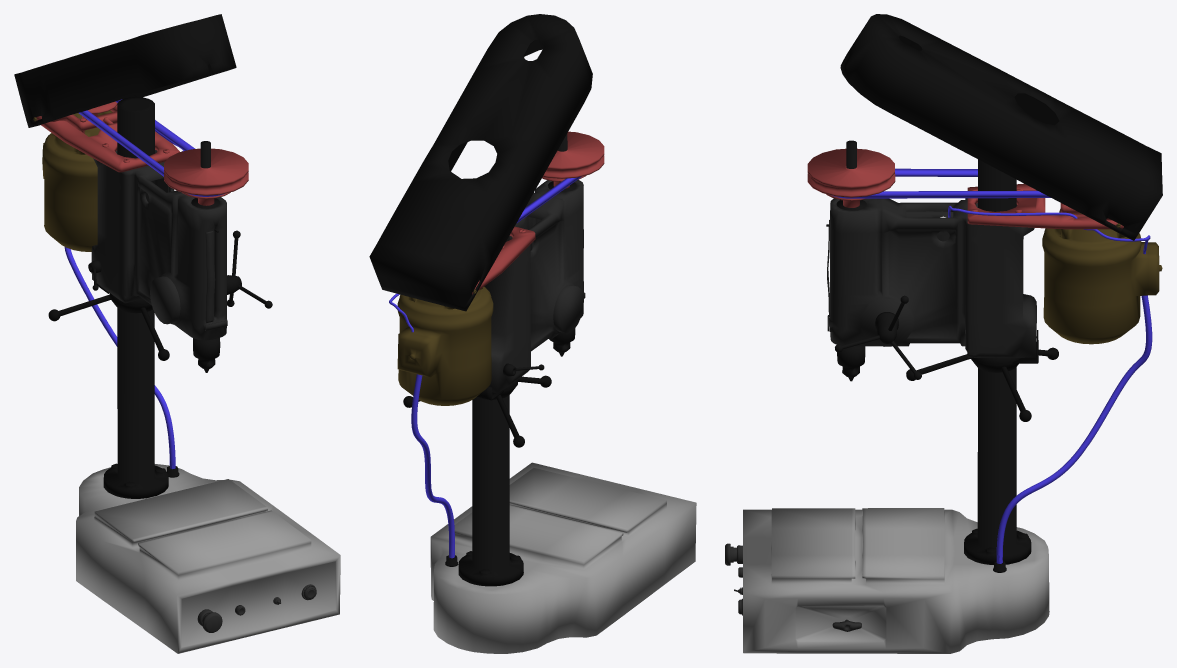
3 views of the same model, side by side, from view 1: azimuth 30°, elevation 25°; view 2: azimuth 150°, elevation 25°; view 3: azimuth 270°, elevation 25° (orthographic). The views are drawn at different scales.
Visible parts, largest first — view 1: stanina_low, korpus_low, kozhuh_low, val_low, motor_low, pulley_2_low, top_low, strap_low, CABLE2_low, Body57_low, ruler's_scale_low, patron_low (+2 smaller); view 2: stanina_low, kozhuh_low, korpus_low, motor_low, val_low, pulley_2_low, CABLE2_low, Body57_low, top_low, strap_low; view 3: stanina_low, kozhuh_low, korpus_low, motor_low, val_low, pulley_2_low, top_low, CABLE2_low, strap_low, CABLE_low, patron_low.
Part boxes in pixels (x1,y1,x2,y2): stanina_low: [76, 464, 340, 653]; korpus_low: [91, 150, 227, 340]; kozhuh_low: [14, 14, 236, 127]; val_low: [103, 97, 168, 498]; motor_low: [42, 110, 112, 251]; pulley_2_low: [164, 148, 248, 205]; top_low: [36, 116, 179, 172]; strap_low: [79, 99, 224, 196]; CABLE2_low: [64, 247, 175, 469]; Body57_low: [150, 276, 180, 324]; ruler's_scale_low: [205, 231, 215, 322]; patron_low: [193, 338, 220, 372]; stanina_low: [430, 462, 696, 653]; kozhuh_low: [369, 14, 592, 311]; korpus_low: [484, 179, 583, 393]; motor_low: [397, 286, 493, 405]; val_low: [458, 235, 523, 586]; pulley_2_low: [542, 131, 604, 188]; CABLE2_low: [411, 374, 454, 558]; Body57_low: [553, 285, 583, 332]; top_low: [472, 226, 535, 294]; strap_low: [516, 176, 581, 223]; stanina_low: [743, 508, 1049, 653]; kozhuh_low: [840, 14, 1162, 240]; korpus_low: [829, 198, 1036, 357]; motor_low: [1042, 209, 1162, 344]; val_low: [964, 159, 1031, 564]; pulley_2_low: [807, 148, 895, 207]; top_low: [967, 183, 1123, 229]; CABLE2_low: [996, 295, 1152, 563]; strap_low: [833, 168, 1050, 198]; CABLE_low: [948, 206, 1150, 254]; patron_low: [837, 346, 865, 381].
Bounding box in the file's own units: 0.8096 × 2.52 × 1.69.
